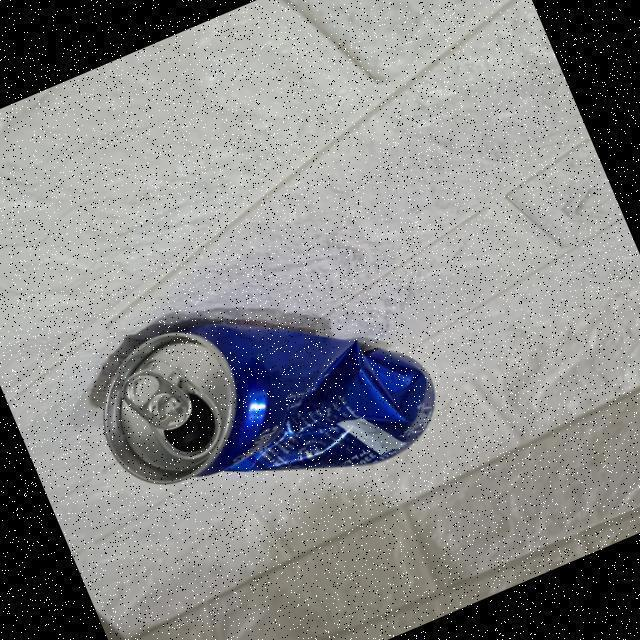metal-can: (101, 312, 439, 489)
